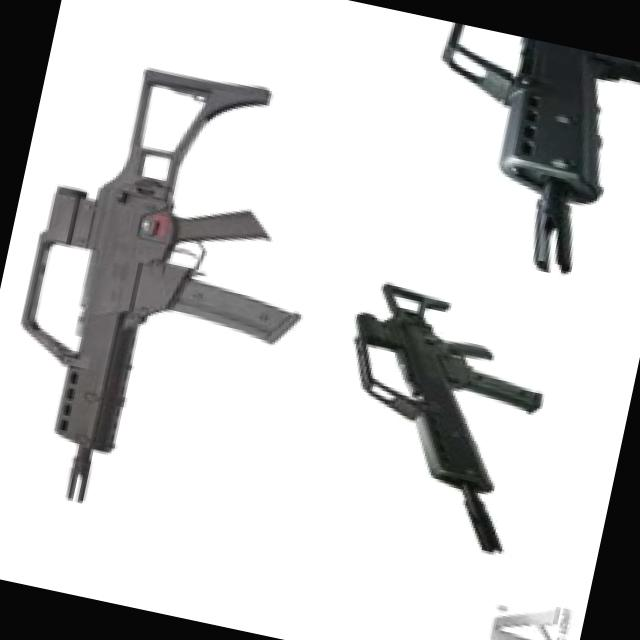long weapon: (0, 17, 347, 557), (293, 256, 575, 584), (383, 19, 639, 306)
